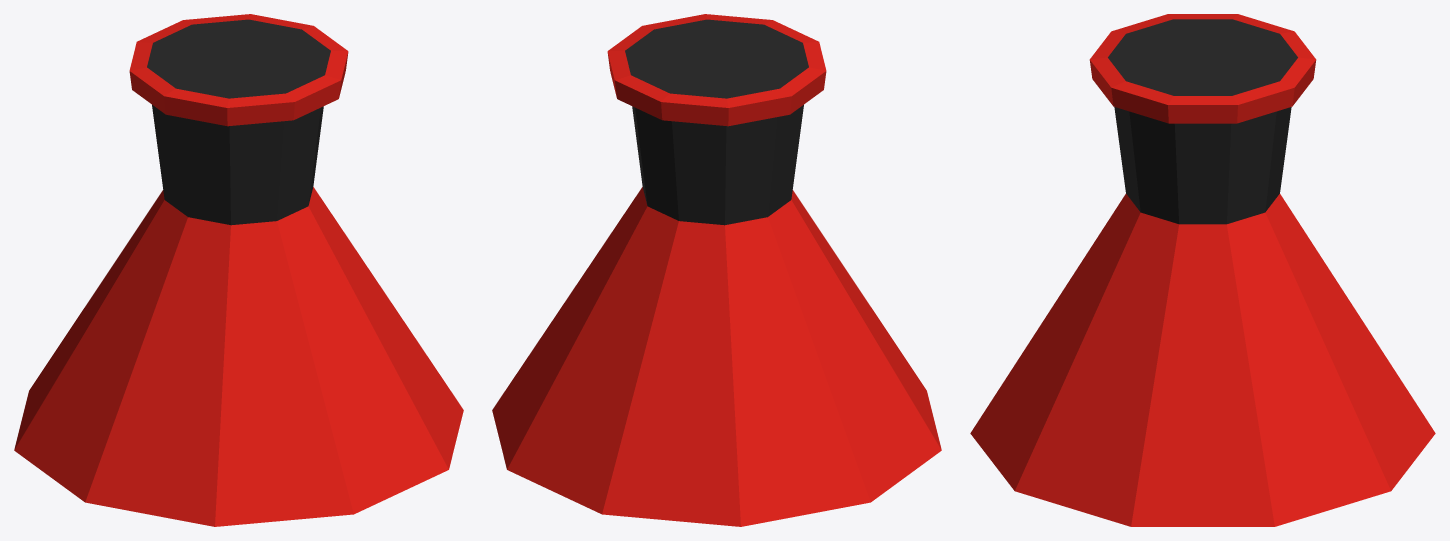
File: red flask.fbx
3 renders of one model, left to right at view 1: azimuth 30°, elevation 25°; view 2: azimuth 150°, elevation 25°; view 3: azimuth 270°, elevation 25°, orthographic.
Visible parts, largest first — view 1: red flask; view 2: red flask; view 3: red flask.
Part boxes in pixels (x1=…): red flask: x1=14, y1=14, x2=463, y2=526; red flask: x1=492, y1=14, x2=941, y2=526; red flask: x1=970, y1=14, x2=1435, y2=526.
Bounding box in the file's own units: 190 × 178 × 200.
